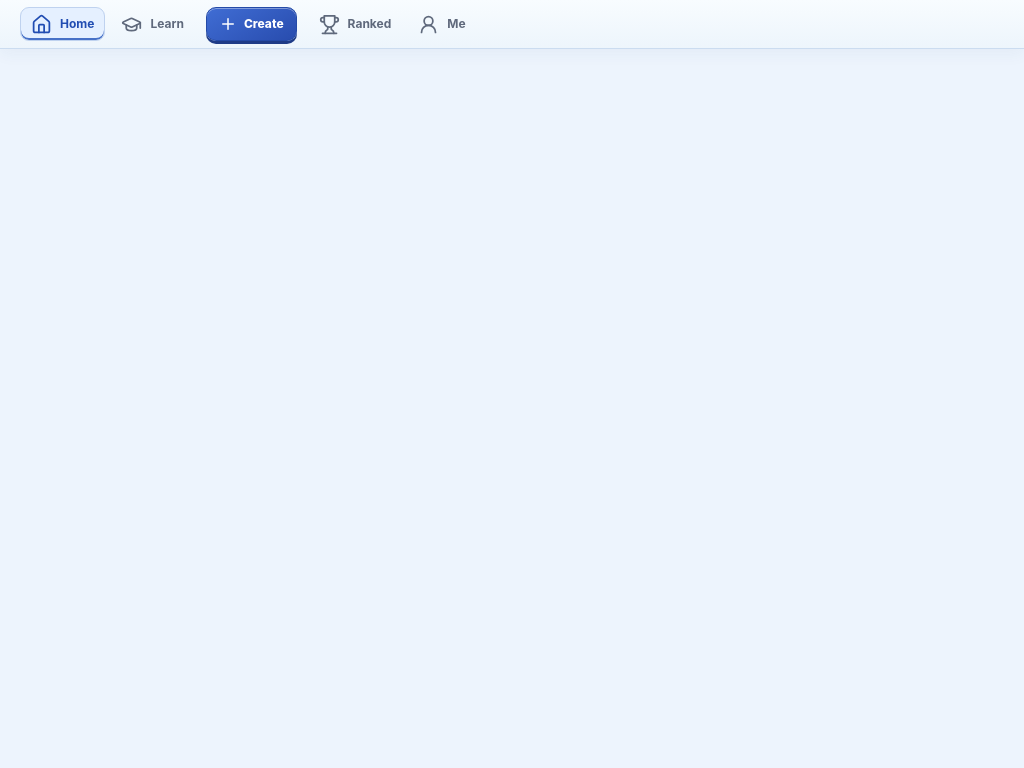
the (+) Create action › makes hosting discoverable as a neutral role
Step 1. Click the link "Create" → x=251, y=24, box [206,7,297,41]
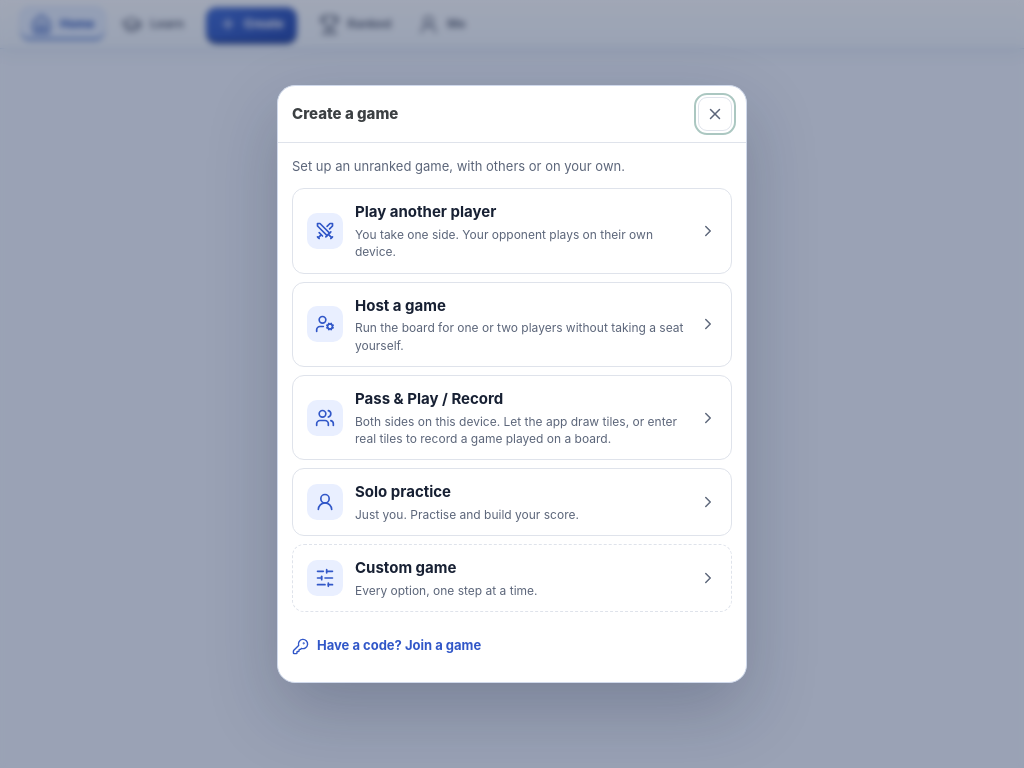
Expected: the link "Host a game" shows "without taking a seat", [292,282,732,367]
